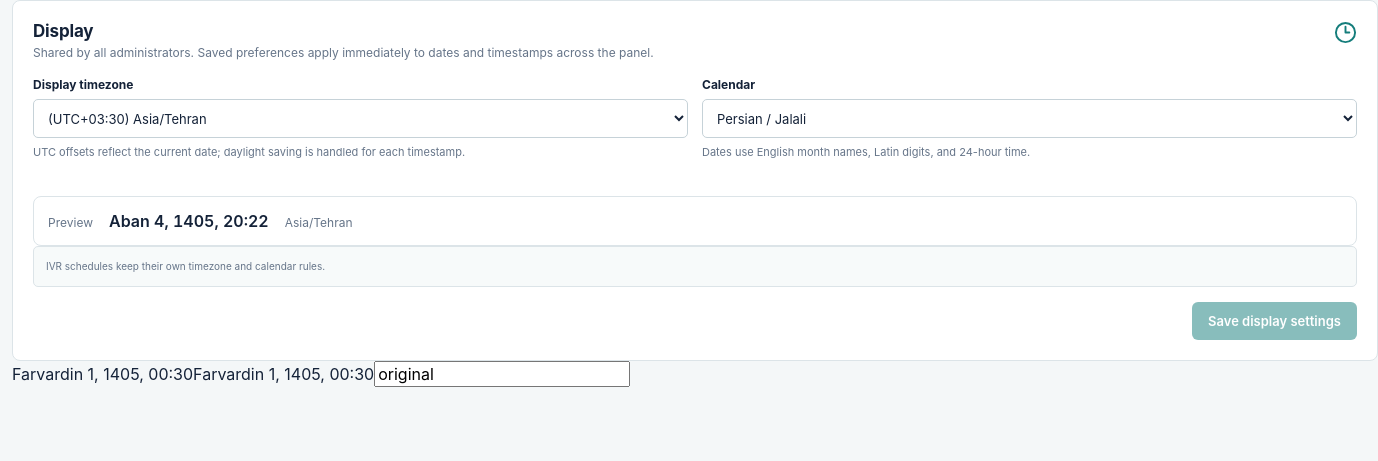
shared display preferences › does not let an older refresh revert a successful save
Select "(UTC+00:00) UTC" in the dropdown labelled "Display timezone". click: [360, 118]
box: top-left (33, 99), bottom-right (688, 138)
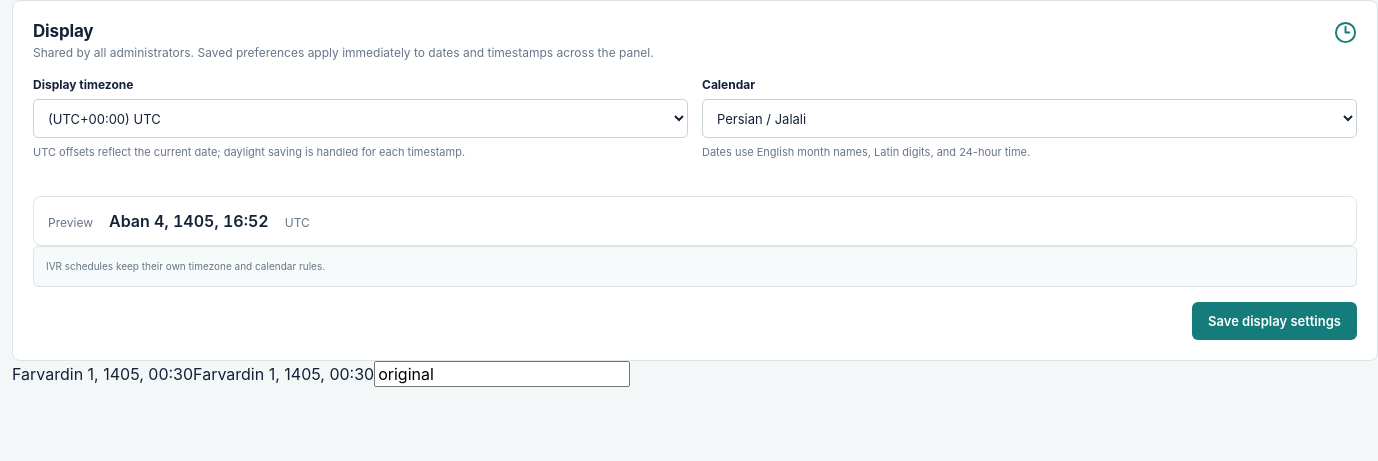
Click the button "Save display settings". click: [1274, 321]
box: top-left (1192, 302), bottom-right (1357, 340)
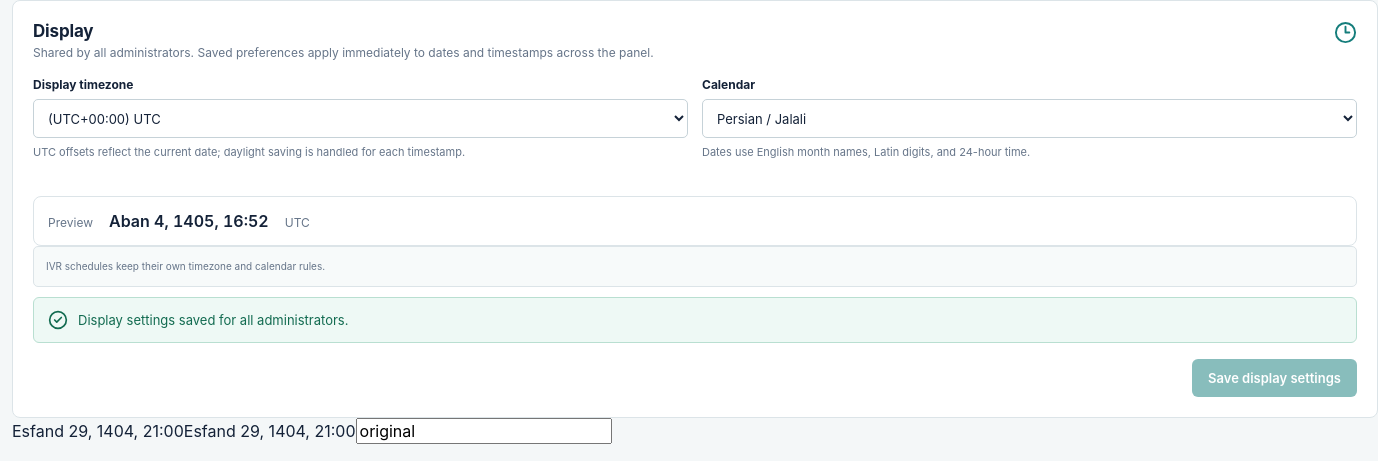
Expected: the text "Display settings saved for all administrators." is shown, top-left (78, 312), bottom-right (348, 328)
Expected: the text named "Call timestamp" reads "Esfand 29, 1404, 21:00", top-left (12, 421), bottom-right (184, 441)
